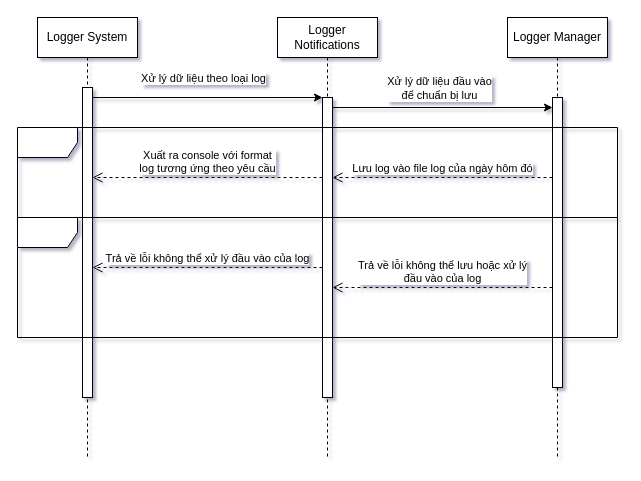
This 641x481 diagram has some shape labels left out. Here are the shapes that lost their labels. From the top down, the centre of each, then its label:
point (317, 172): Thành công
point (317, 277): Lỗi
